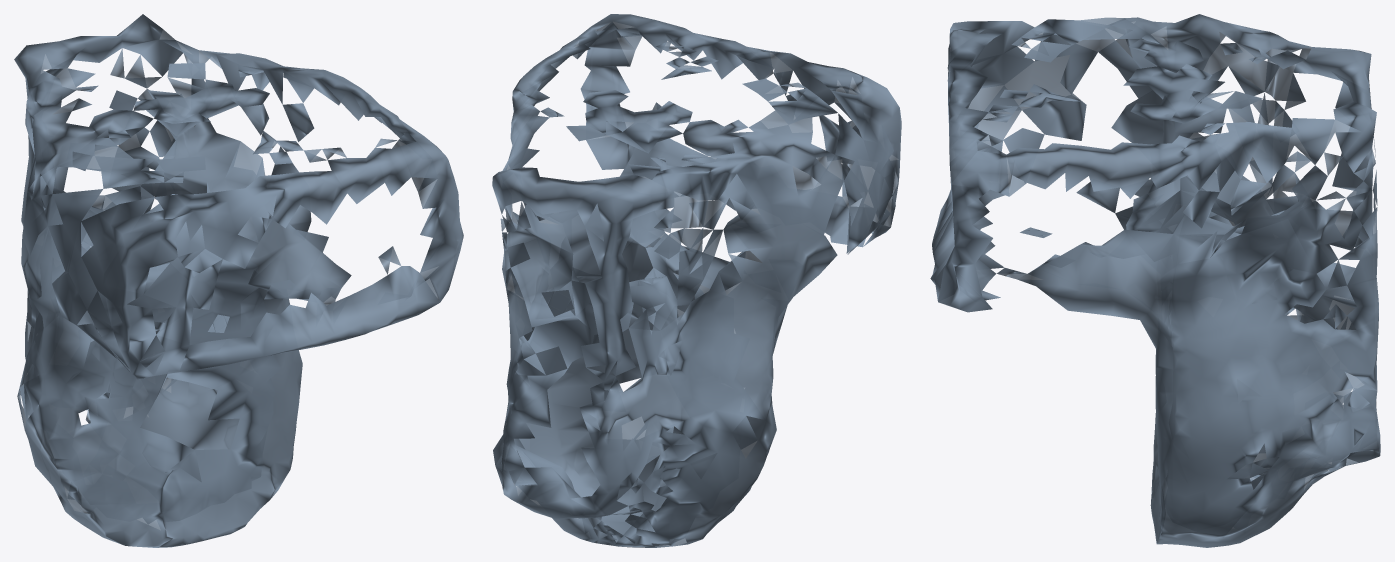
Rendered from toilet_0006_recon.obj.
The picture shows the model from 3 angles, left to right: view 1: azimuth 30°, elevation 25°; view 2: azimuth 150°, elevation 25°; view 3: azimuth 270°, elevation 25°; orthographic projection. The views are drawn at different scales.
Size of the model in its own units: 1.15 by 1.42 by 1.29.
